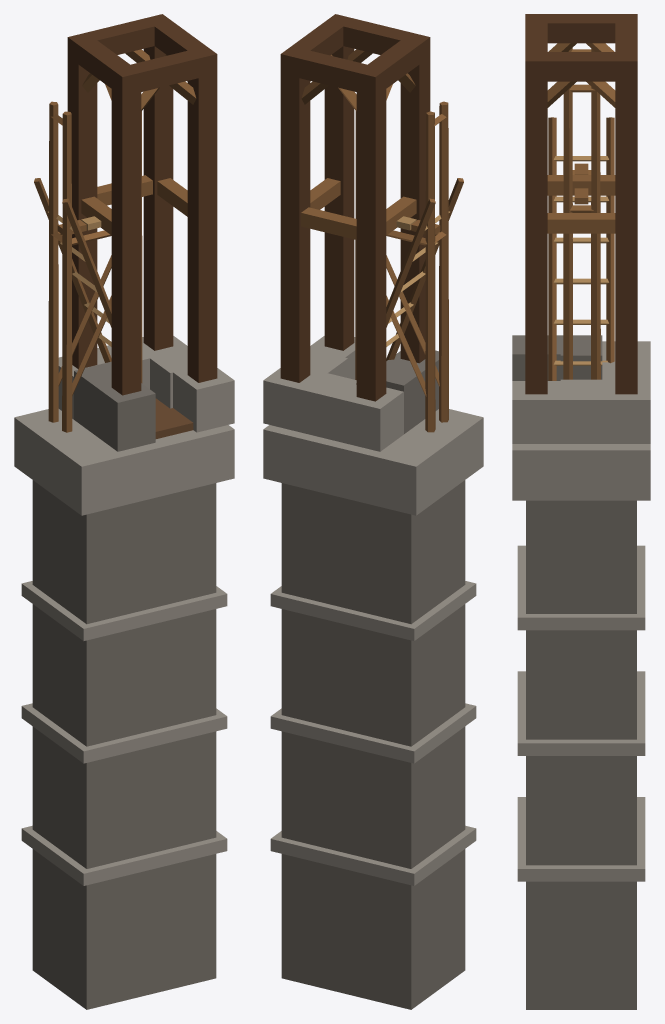
Rendered from site_1x1_2.glb.
3 renders of one model, left to right at view 1: azimuth 30°, elevation 25°; view 2: azimuth 150°, elevation 25°; view 3: azimuth 270°, elevation 25°, orthographic. The views are drawn at different scales.
Parts seen in each view (by area): view 1: site_1x1_2; view 2: site_1x1_2; view 3: site_1x1_2.
Part boxes in pixels (x1=…): site_1x1_2: x1=14, y1=14, x2=234, y2=1009; site_1x1_2: x1=263, y1=14, x2=483, y2=1009; site_1x1_2: x1=512, y1=14, x2=650, y2=1009.
Bounding box in the file's own units: 1.31 × 7.55 × 1.
